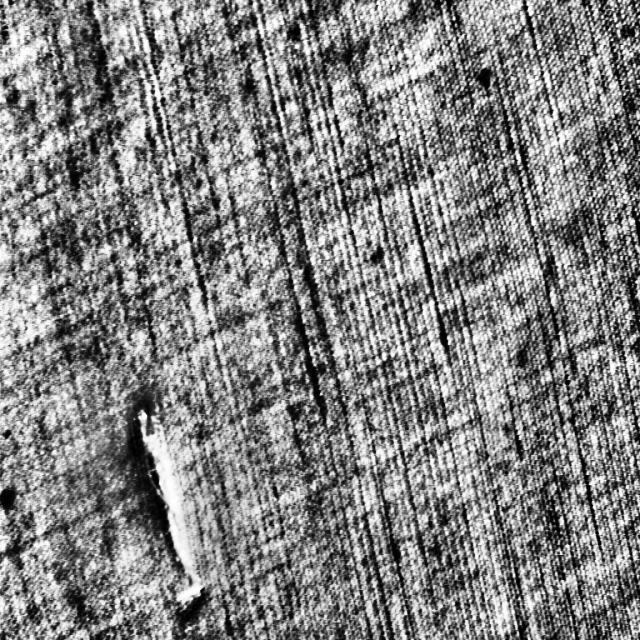cut: (118, 367, 217, 631)
